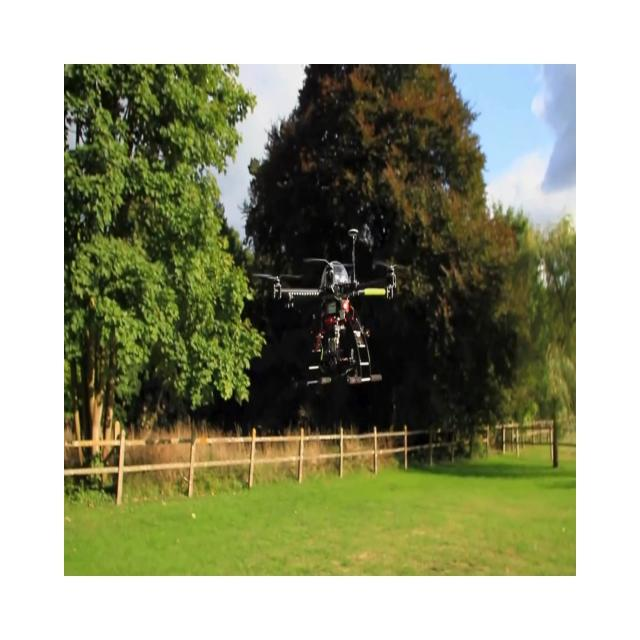drone: (251, 226, 409, 389)
